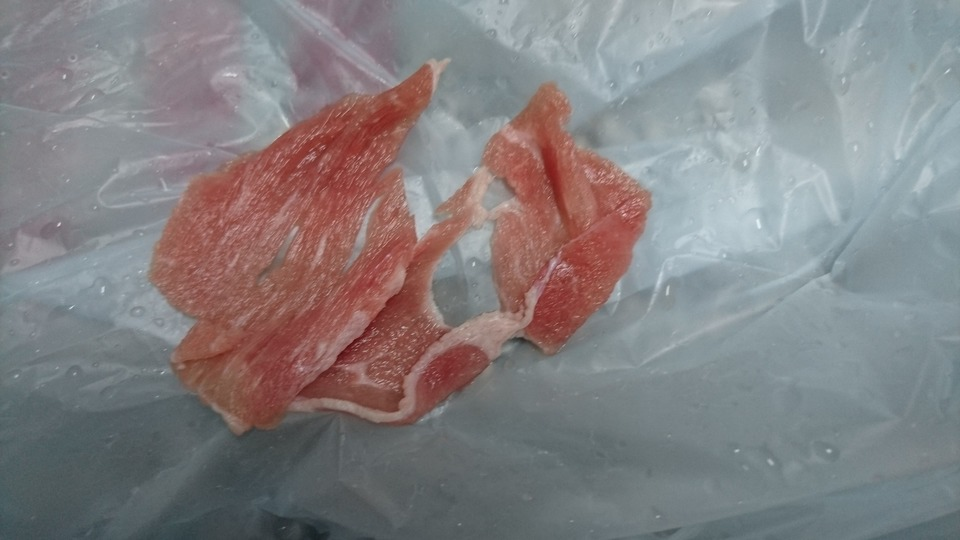restructured meat: (142, 64, 606, 433)
